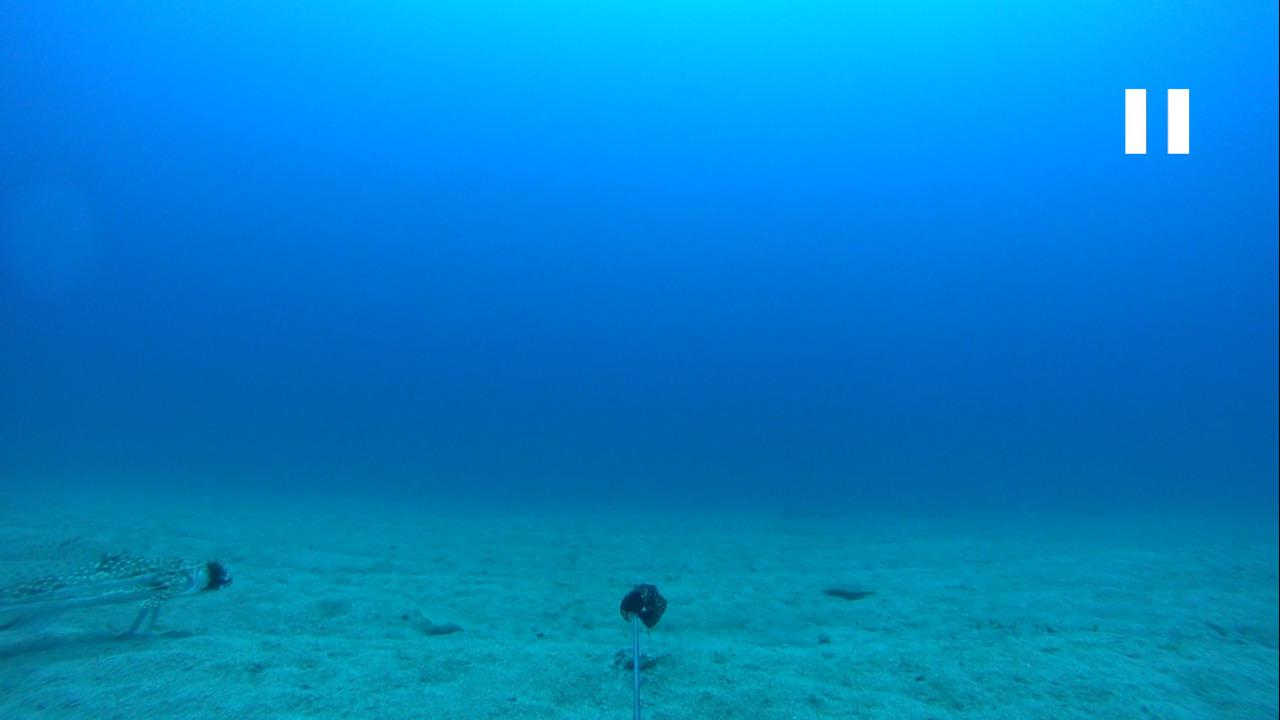bothus: (820, 579, 877, 602)
dactylopterus: (3, 545, 235, 653)
